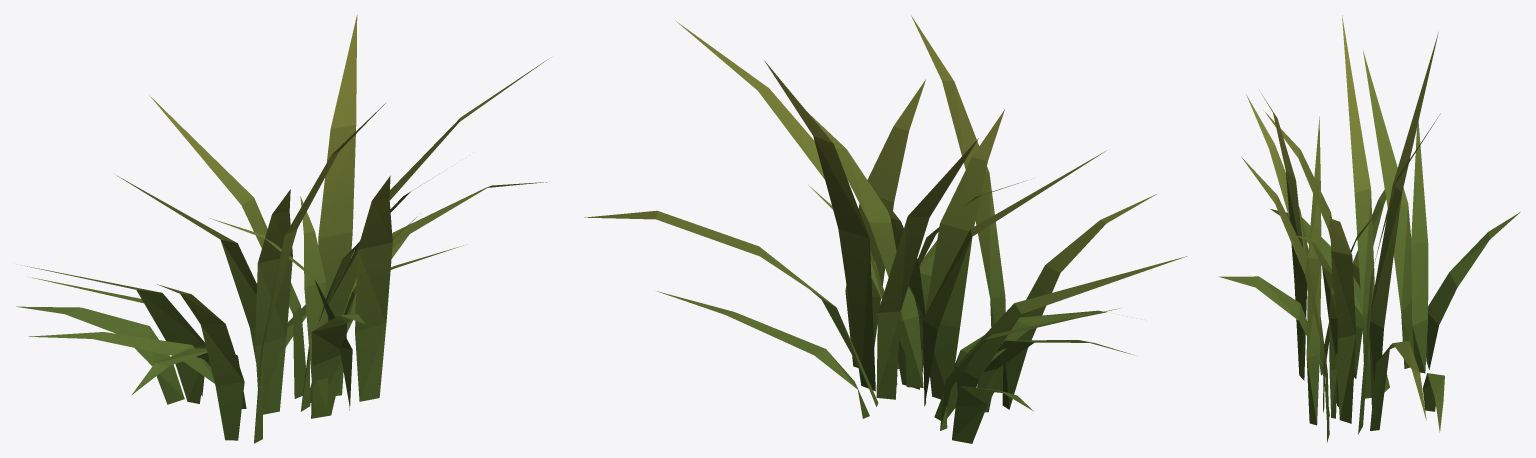
File: Grass.fbx
3 renders of one model, left to right at view 1: azimuth 30°, elevation 25°; view 2: azimuth 150°, elevation 25°; view 3: azimuth 270°, elevation 25°, orthographic. The views are drawn at different scales.
Visible parts, largest first — view 1: grass_middle_a__28_; view 2: grass_middle_a__28_; view 3: grass_middle_a__28_.
Part boxes in pixels (<box>): grass_middle_a__28_: <box>16,14,547,443</box>; grass_middle_a__28_: <box>584,15,1187,443</box>; grass_middle_a__28_: <box>1219,15,1520,442</box>.
Size of the model in its own units: 99 by 57.59 by 43.73.
